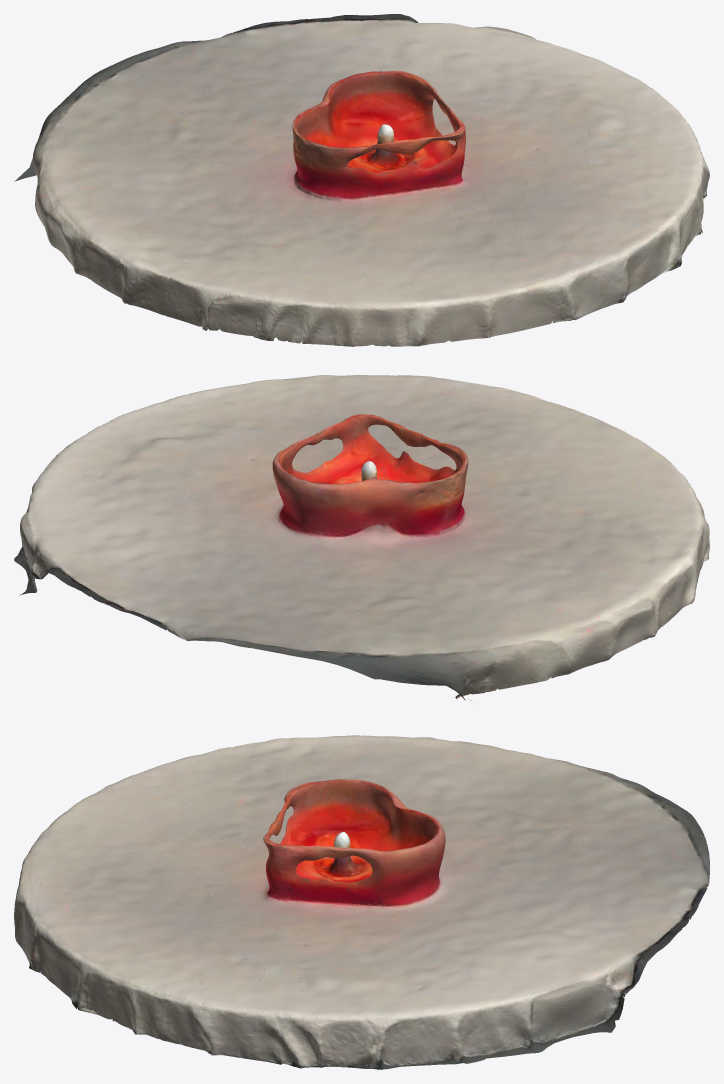
Rendered from table.glb.
3 views of the same model, one above another, from view 1: azimuth 30°, elevation 25°; view 2: azimuth 150°, elevation 25°; view 3: azimuth 270°, elevation 25° (orthographic). The views are drawn at different scales.
Size of the model in its own units: 0.199 by 0.0329 by 0.197.
1 material, 1 textured.
